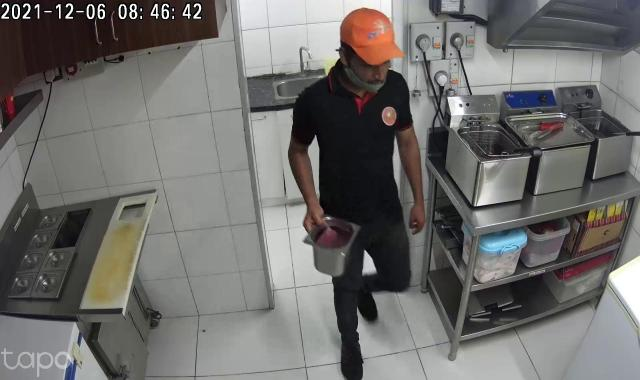no_hairnet: (337, 6, 404, 71)
